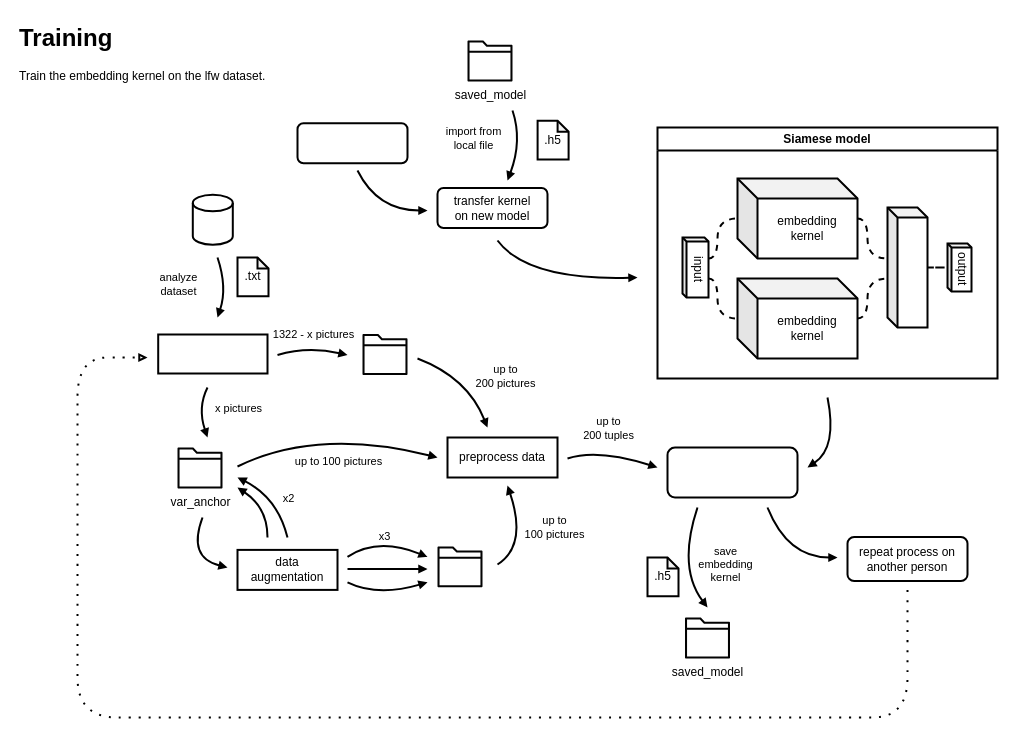
The diagram is 1015 pixels wide and 735 high, and some of its shapes have lost their labels. The box of each missing label's shape, as (x1, y1, x2, y2) in pixels:
classifier: (886, 206, 928, 328)
create untrained siamese model: (296, 122, 408, 164)
LFW: (191, 193, 233, 245)
negative: (362, 333, 408, 375)
randomly select a given person: (157, 333, 268, 374)
train model: (666, 446, 798, 498)
var_positive: (436, 545, 482, 587)
